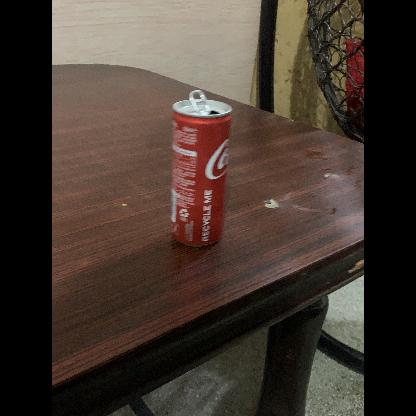Lid_Open: (186, 84, 218, 118)
Tin_Can: (167, 88, 235, 256)
